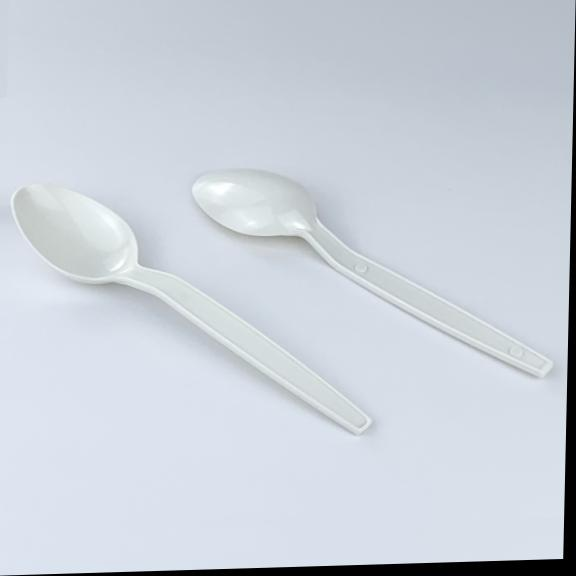Plastik: (11, 184, 370, 434), (194, 169, 553, 377)
